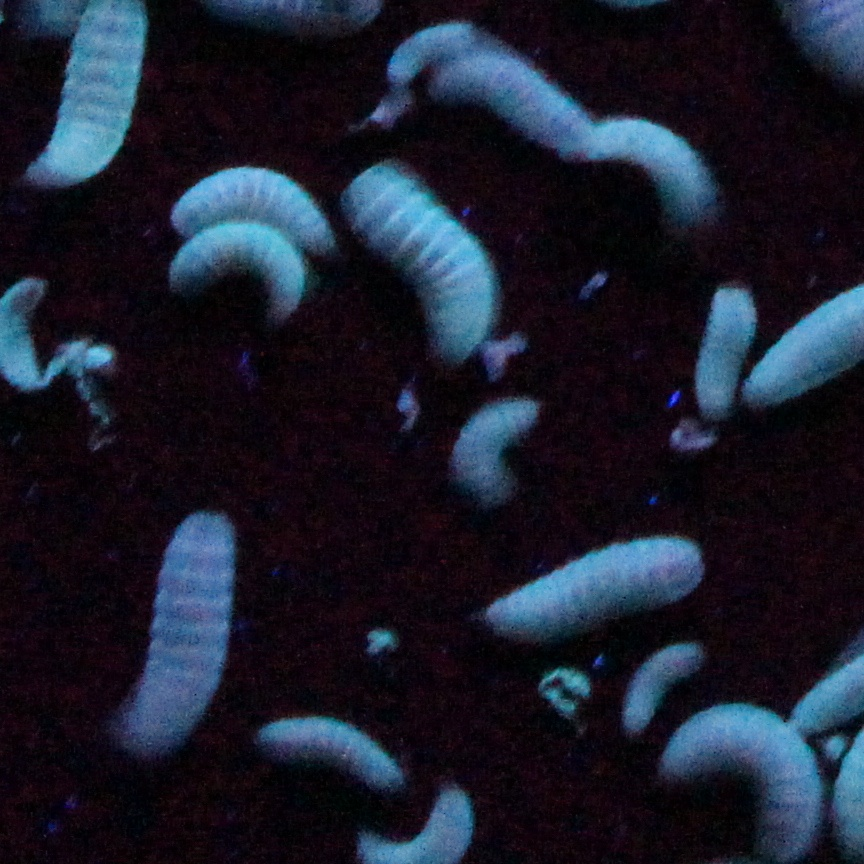larve: (340, 161, 498, 368), (120, 512, 233, 761), (661, 706, 825, 858), (471, 536, 704, 636), (428, 51, 586, 155), (588, 115, 721, 227), (169, 219, 309, 321), (169, 165, 329, 252), (260, 705, 402, 788), (372, 24, 474, 122), (451, 394, 538, 505), (694, 284, 752, 416), (619, 640, 703, 726)
